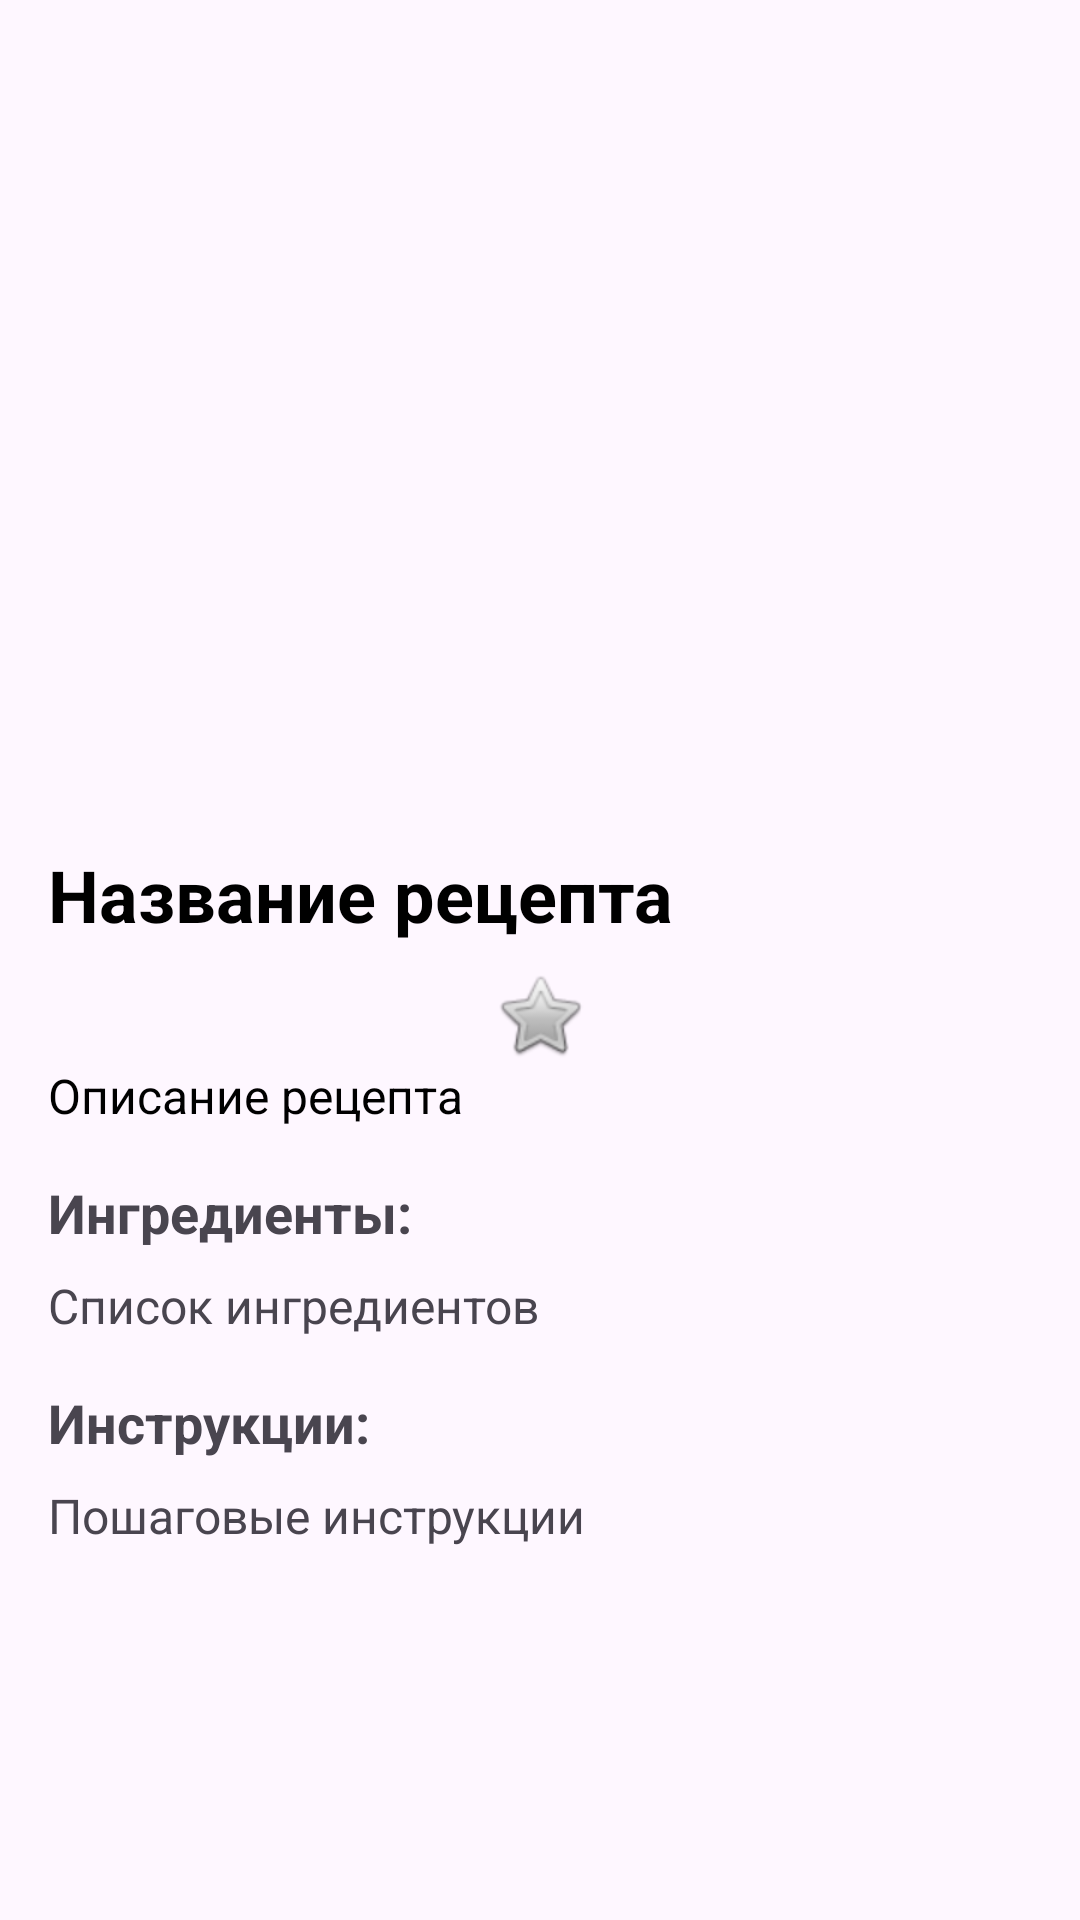

Icon click points for this 1080×1920 phone screenshot, format [x,y]:
star off: [541,1016]
